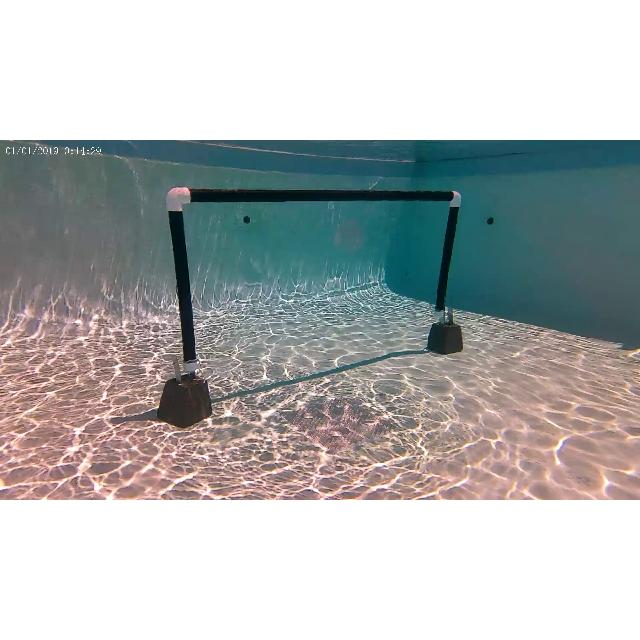prequal gate: (167, 186, 461, 372)
prequal gate leg l: (168, 186, 208, 372)
prequal gate leg r: (432, 190, 461, 322)
